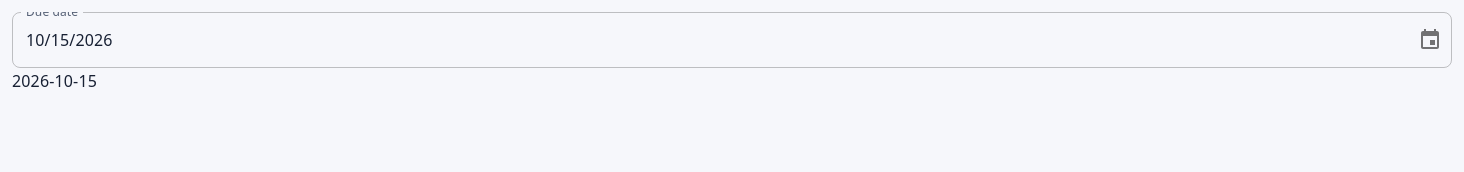
it: NexaDatePicker › changes a date section with the keyboard
Click the number field named "Day" at (60, 40), box [51,28,69,50]
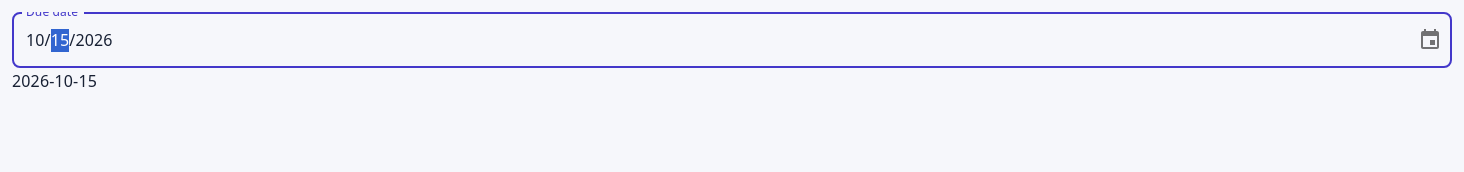
Press Arrowup
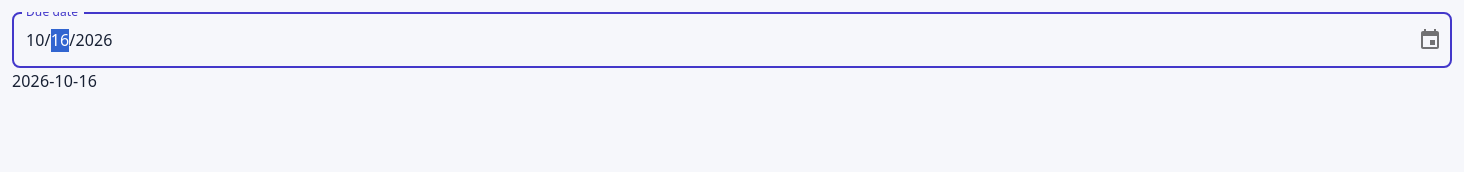
Now the text "2026-10-16" is shown, box [12,70,97,92]
